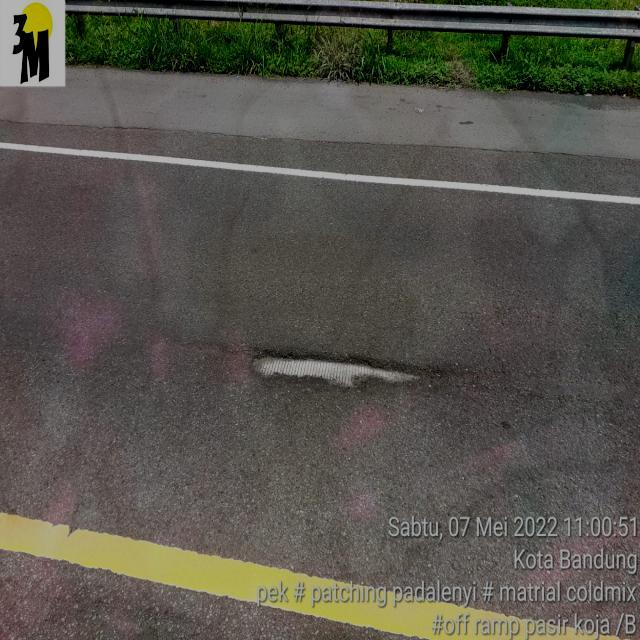Buraco: (244, 347, 436, 395)
